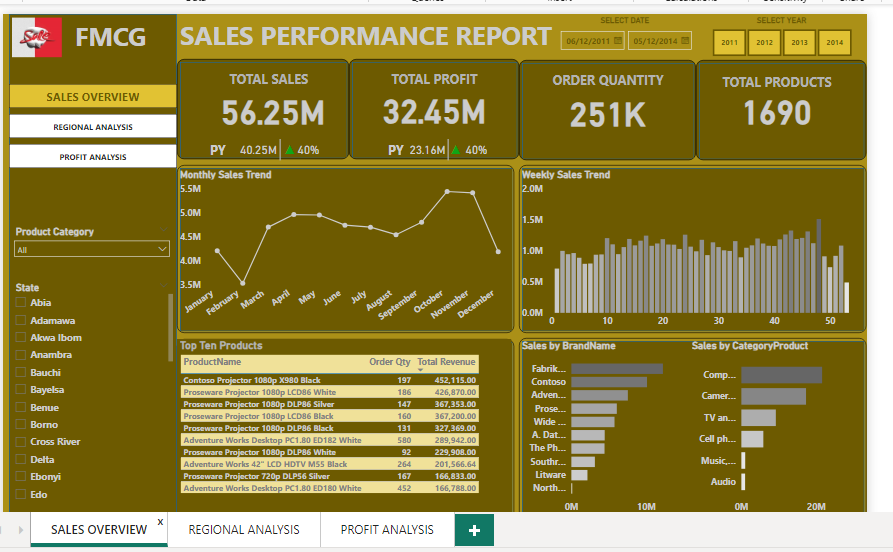

Layout of this report page (visuals, bound fields, positions):
{"tool":"powerbi","page":{"name":"SALES OVERVIEW","canvas":[1440,850],"ordinal":0},"visuals":[{"type":"shape","box":[9.4,0,279.7,840.9],"z":0},{"type":"image","box":[9.4,0,92.6,77.5],"z":1000},{"type":"textbox","box":[290.2,0,645.9,67.2],"z":2000},{"type":"textbox","box":[115.3,1.9,145.5,75.6],"z":3000},{"type":"shape","box":[290.2,75.4,286.9,167.2],"z":4000},{"type":"card","fields":{"Values":["Measure.Total Revenue"]},"box":[330.6,112.5,238.1,87.6],"z":5000},{"type":"textbox","box":[367.2,88.5,165.6,67.2],"z":6000},{"type":"card","fields":{"Values":["DATE.Total Sales YoY%"]},"box":[449.2,200,118,52.5],"z":7000},{"type":"card","fields":{"Values":["Measure.Sales_icon"]},"box":[441,195.1,72.1,62.3],"z":8000},{"type":"card","fields":{"Values":["Measure.Sales_LY"]},"box":[367.2,200,118,52.5],"z":9000},{"type":"textbox","box":[339.3,206.6,55.7,37.7],"z":10000},{"type":"shape","box":[577,75.4,283.6,167.2],"z":11000},{"type":"card","fields":{"Values":["Measure.Total_Profit"]},"box":[600,111.5,237.7,86.9],"z":12000},{"type":"textbox","box":[636.1,88.5,165.6,67.2],"z":13000},{"type":"card","fields":{"Values":["DATE.Profit YoY%"]},"box":[729.7,200.2,118,52.5],"z":14000},{"type":"card","fields":{"Values":["Measure.Sales_icon"]},"box":[718.2,195.2,72.1,62.3],"z":15000},{"type":"card","fields":{"Values":["Measure.Profit_LY"]},"box":[647.7,200.2,118,52.5],"z":16000},{"type":"textbox","box":[636.1,206.6,47.5,37.7],"z":17000},{"type":"shape","box":[860.7,77,295.1,167.2],"z":18000},{"type":"card","fields":{"Values":["Sum(Sales_Data.Order Qty)"]},"box":[888.5,116.4,237.7,86.9],"z":19000},{"type":"textbox","box":[904.9,90.2,204.9,67.2],"z":20000},{"type":"textbox","box":[918,209.8,55.7,37.7],"z":21000},{"type":"shape","box":[426.2,208.2,70.5,36.1],"z":22000},{"type":"shape","box":[706.6,208.2,70.5,36.1],"z":23000},{"type":"shape","box":[1155.7,77,283.6,167.2],"z":24000},{"type":"card","fields":{"Values":["Count(Sales_Product.ProductName)"]},"box":[1170.5,113.1,237.7,86.9],"z":25000},{"type":"textbox","box":[1188.5,93.4,201.6,67.2],"z":26000},{"type":"textbox","box":[1175.4,204.9,55.7,37.7],"z":27000},{"type":"shape","box":[290.2,252.5,562.3,280.3],"z":28000},{"type":"shape","box":[860.7,252.5,578.7,280.3],"z":29000},{"type":"shape","box":[290.2,541,562.3,300],"z":30000},{"type":"shape","box":[860.7,539.3,578.7,301.6],"z":31000},{"type":"lineChart","title":"Monthly Sales Trend","fields":{"Category":["DATE.Date.Variation.Date Hierarchy.Year","DATE.Date.Variation.Date Hierarchy.Quarter","DATE.Date.Variation.Date Hierarchy.Month","DATE.Date.Variation.Date Hierarchy.Day"],"Y":["Measure.Total Revenue"]},"box":[290.2,257.4,557.4,275.4],"z":32000},{"type":"clusteredColumnChart","title":"Weekly Sales Trend","fields":{"Category":["DATE.Week of the Year"],"Y":["Measure.Total Revenue"]},"box":[860.7,257.4,578.7,275.4],"z":33000},{"type":"tableEx","title":"Top Ten Products","fields":{"Values":["Sales_Product.ProductName","Sum(Sales_Data.Order Qty)","Measure.Total Revenue"]},"box":[290.2,541,557.4,300],"z":34000},{"type":"clusteredBarChart","title":"Sales by BrandName","fields":{"Category":["Sales_Product.BrandName"],"Y":["Measure.Total Revenue"]},"box":[860.7,541,295.1,300],"z":35000},{"type":"clusteredBarChart","title":"Sales by CategoryProduct","fields":{"Category":["Sales_Product_Sub_Cat.Product Category"],"Y":["Measure.Total Revenue"]},"box":[1142.6,541,295.1,300],"z":36000},{"type":"slicer","title":"SELECT DATE","fields":{"Values":["DATE.Date"]},"box":[916.4,3.3,239.3,73.8],"z":37000},{"type":"slicer","title":"SELECT YEAR","fields":{"Values":["DATE.year"]},"box":[1157.4,3.3,282,73.8],"z":38000},{"type":"slicer","fields":{"Values":["Sales_Product_Sub_Cat.Product Category"]},"box":[8.2,345.9,280.3,93.4],"z":39000},{"type":"slicer","fields":{"Values":["Sales_State.State"]},"box":[8.2,439.3,280.3,380.3],"z":40000},{"type":"pageNavigator","box":[9.8,116.4,280.3,141],"z":41000}]}

Visuals, with their boxes on the page's 1440x850 design canvas (x1, y1, x2, y2). These are canvas units, not pixel positions in the 893x552 screenshot, which may show the page scaled, cropped or inside an application window:
shape: {"left": 9, "top": 0, "right": 289, "bottom": 841}
image: {"left": 9, "top": 0, "right": 102, "bottom": 78}
textbox: {"left": 290, "top": 0, "right": 936, "bottom": 67}
textbox: {"left": 115, "top": 2, "right": 261, "bottom": 78}
shape: {"left": 290, "top": 75, "right": 577, "bottom": 243}
card - Measure.Total Revenue: {"left": 331, "top": 112, "right": 569, "bottom": 200}
textbox: {"left": 367, "top": 88, "right": 533, "bottom": 156}
card - DATE.Total Sales YoY%: {"left": 449, "top": 200, "right": 567, "bottom": 252}
card - Measure.Sales_icon: {"left": 441, "top": 195, "right": 513, "bottom": 257}
card - Measure.Sales_LY: {"left": 367, "top": 200, "right": 485, "bottom": 252}
textbox: {"left": 339, "top": 207, "right": 395, "bottom": 244}
shape: {"left": 577, "top": 75, "right": 861, "bottom": 243}
card - Measure.Total_Profit: {"left": 600, "top": 112, "right": 838, "bottom": 198}
textbox: {"left": 636, "top": 88, "right": 802, "bottom": 156}
card - DATE.Profit YoY%: {"left": 730, "top": 200, "right": 848, "bottom": 253}
card - Measure.Sales_icon: {"left": 718, "top": 195, "right": 790, "bottom": 258}
card - Measure.Profit_LY: {"left": 648, "top": 200, "right": 766, "bottom": 253}
textbox: {"left": 636, "top": 207, "right": 684, "bottom": 244}
shape: {"left": 861, "top": 77, "right": 1156, "bottom": 244}
card - Sum(Sales_Data.Order Qty): {"left": 888, "top": 116, "right": 1126, "bottom": 203}
textbox: {"left": 905, "top": 90, "right": 1110, "bottom": 157}
textbox: {"left": 918, "top": 210, "right": 974, "bottom": 248}
shape: {"left": 426, "top": 208, "right": 497, "bottom": 244}
shape: {"left": 707, "top": 208, "right": 777, "bottom": 244}
shape: {"left": 1156, "top": 77, "right": 1439, "bottom": 244}
card - Count(Sales_Product.ProductName): {"left": 1170, "top": 113, "right": 1408, "bottom": 200}
textbox: {"left": 1188, "top": 93, "right": 1390, "bottom": 161}
textbox: {"left": 1175, "top": 205, "right": 1231, "bottom": 243}
shape: {"left": 290, "top": 252, "right": 852, "bottom": 533}
shape: {"left": 861, "top": 252, "right": 1439, "bottom": 533}
shape: {"left": 290, "top": 541, "right": 852, "bottom": 841}
shape: {"left": 861, "top": 539, "right": 1439, "bottom": 841}
"Monthly Sales Trend" lineChart: {"left": 290, "top": 257, "right": 848, "bottom": 533}
"Weekly Sales Trend" clusteredColumnChart: {"left": 861, "top": 257, "right": 1439, "bottom": 533}
"Top Ten Products" tableEx: {"left": 290, "top": 541, "right": 848, "bottom": 841}
"Sales by BrandName" clusteredBarChart: {"left": 861, "top": 541, "right": 1156, "bottom": 841}
"Sales by CategoryProduct" clusteredBarChart: {"left": 1143, "top": 541, "right": 1438, "bottom": 841}
"SELECT DATE" slicer: {"left": 916, "top": 3, "right": 1156, "bottom": 77}
"SELECT YEAR" slicer: {"left": 1157, "top": 3, "right": 1439, "bottom": 77}
slicer - Sales_Product_Sub_Cat.Product Category: {"left": 8, "top": 346, "right": 288, "bottom": 439}
slicer - Sales_State.State: {"left": 8, "top": 439, "right": 288, "bottom": 820}
pageNavigator: {"left": 10, "top": 116, "right": 290, "bottom": 257}
